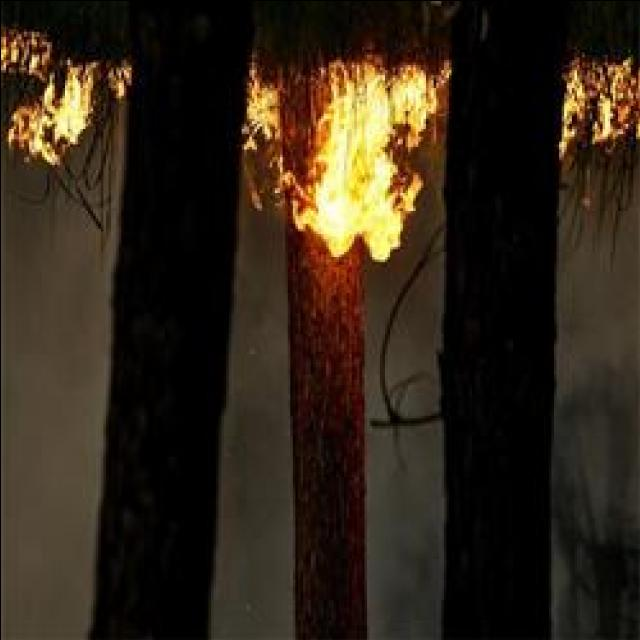fire: (290, 62, 442, 265), (5, 47, 121, 162), (556, 55, 640, 165)
